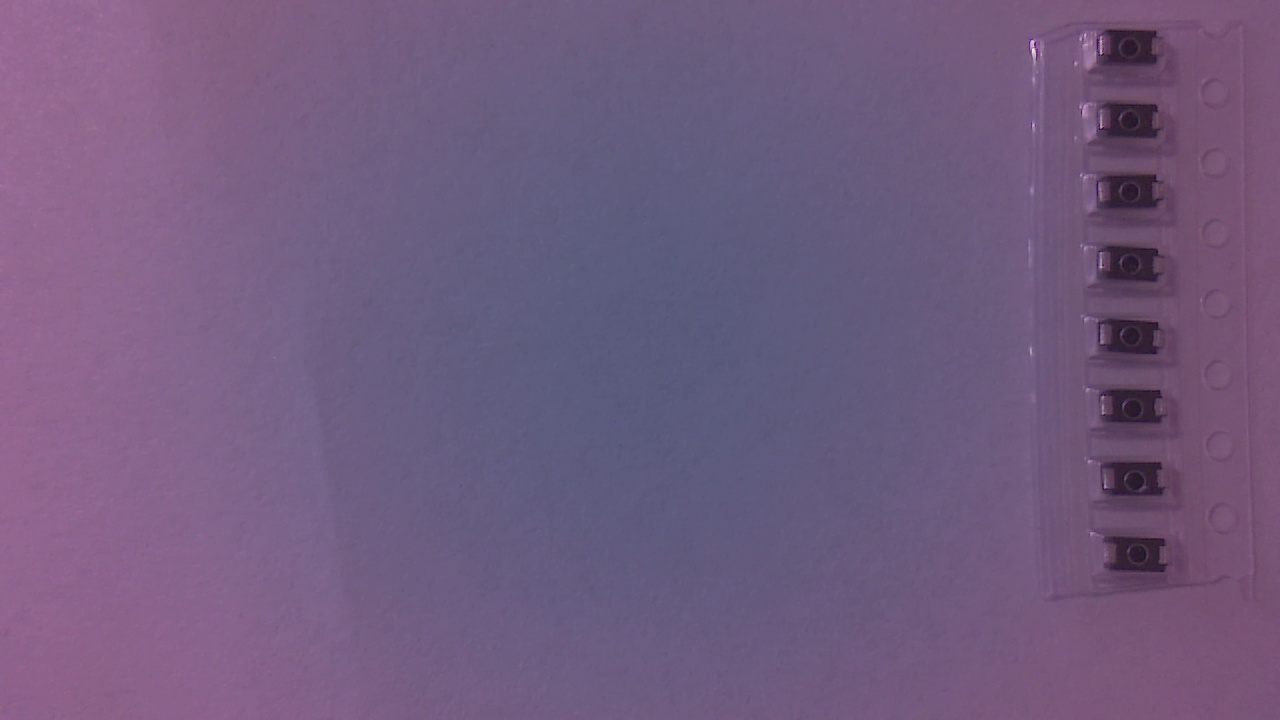Diode: (1095, 33, 1167, 76), (1107, 538, 1174, 582), (1101, 177, 1172, 216), (1100, 106, 1169, 146), (1103, 250, 1170, 291), (1105, 464, 1175, 503), (1104, 321, 1172, 360), (1105, 393, 1172, 430)
